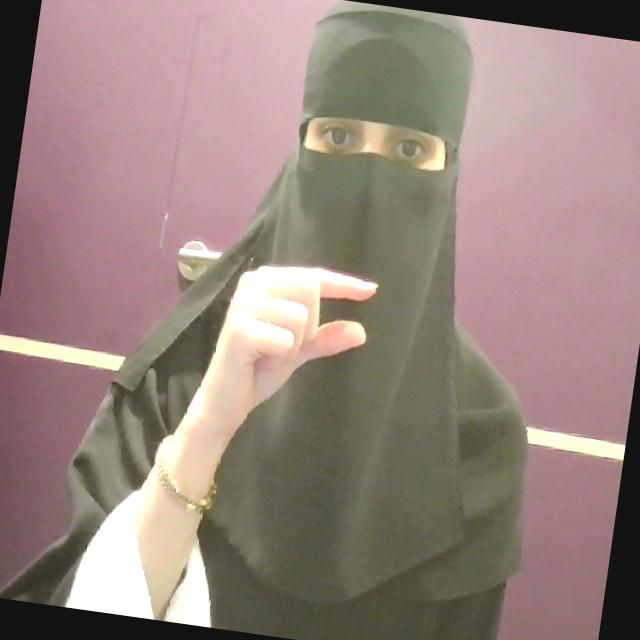fasting: (180, 248, 380, 461)
